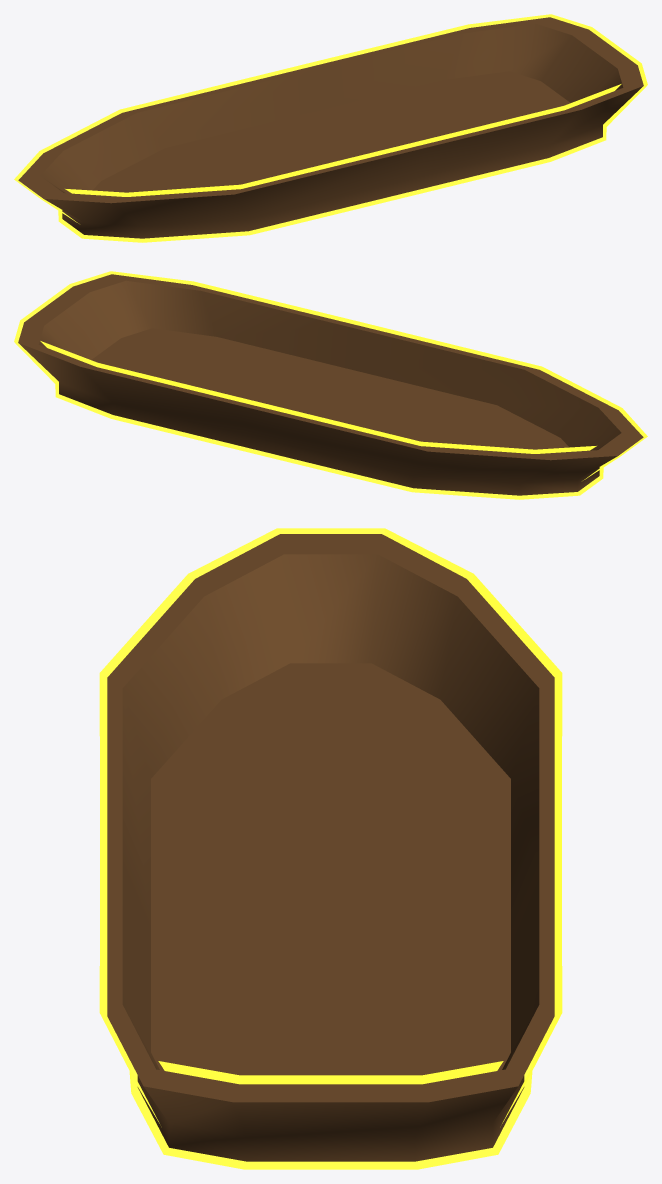
File: boat.glb
3 views of the same model, one above another, from view 1: azimuth 30°, elevation 25°; view 2: azimuth 150°, elevation 25°; view 3: azimuth 270°, elevation 25° (orthographic). The views are drawn at different scales.
Parts seen in each view (by area): view 1: Boat, BoatHighlight; view 2: Boat, BoatHighlight; view 3: Boat, BoatHighlight.
Boxes of the visible parts, x1=… form: Boat: x1=18, y1=17, x2=643, y2=238; BoatHighlight: x1=14, y1=14, x2=647, y2=242; Boat: x1=18, y1=274, x2=643, y2=495; BoatHighlight: x1=14, y1=271, x2=647, y2=499; Boat: x1=107, y1=534, x2=554, y2=1161; BoatHighlight: x1=99, y1=528, x2=562, y2=1169.
Size of the model in its own units: 7.56 by 0.6816 by 2.57.
